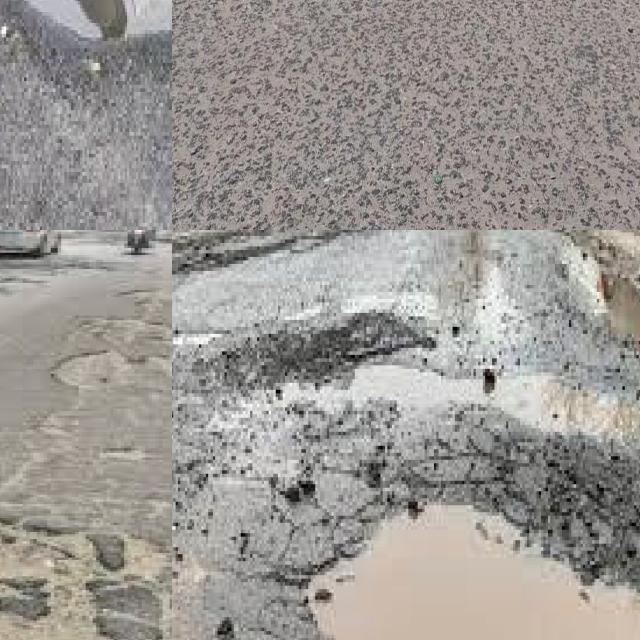Pothole: (306, 505, 640, 640), (0, 530, 54, 640), (117, 534, 170, 583)
